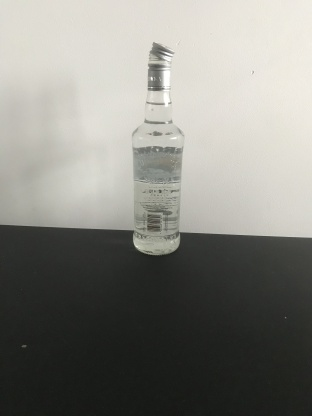nakretka: (146, 39, 175, 91)
